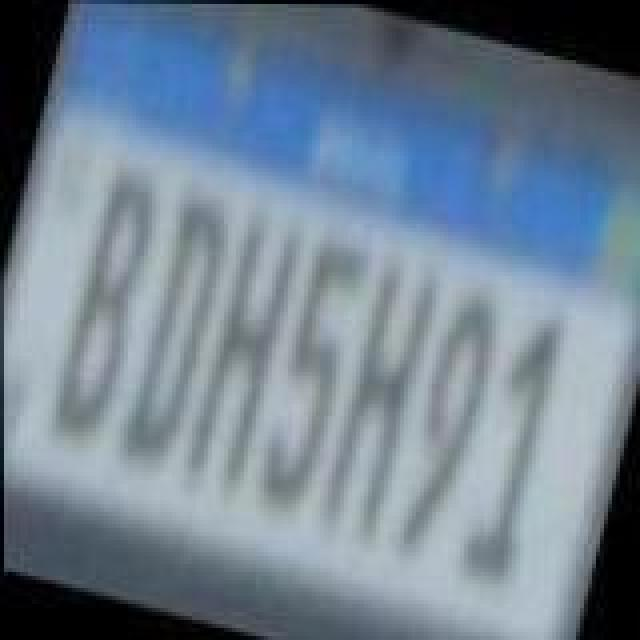1: (452, 302, 576, 590)
5: (252, 228, 376, 516)
9: (388, 288, 512, 572)
B: (44, 166, 168, 446)
D: (114, 192, 242, 476)
H: (316, 248, 448, 544), (178, 202, 306, 498)
